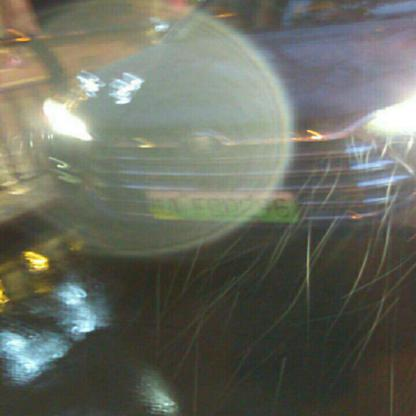lp: (145, 192, 299, 222)
